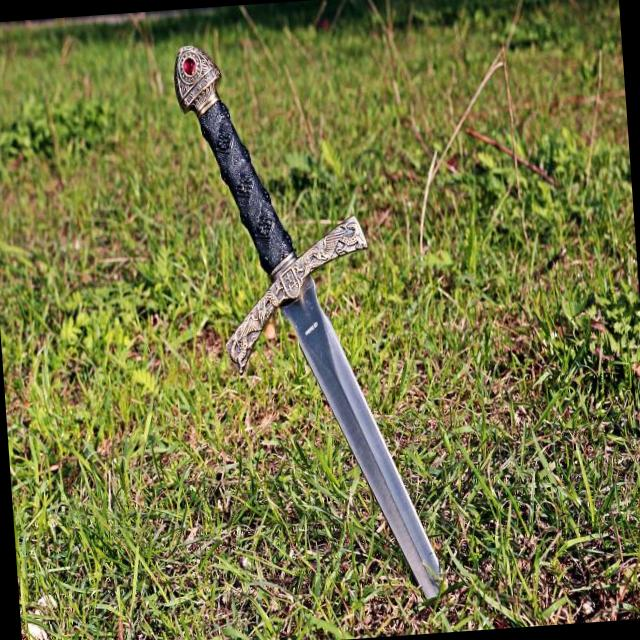Knife: (174, 46, 441, 597)
